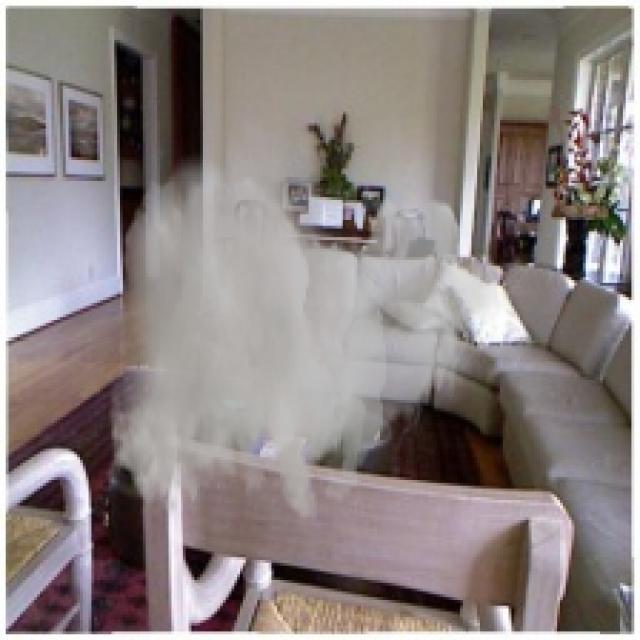smoke: (109, 108, 512, 523)
